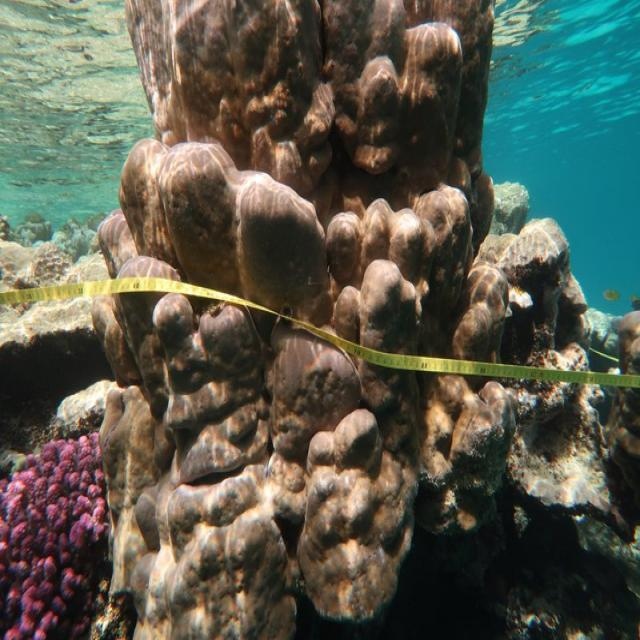Healthy Coral: (0, 424, 116, 640)
